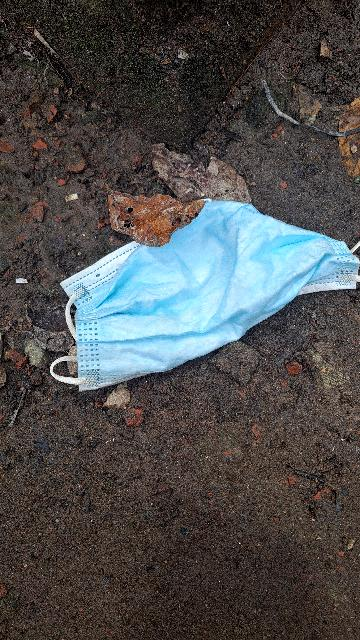mask: (34, 199, 360, 390)
